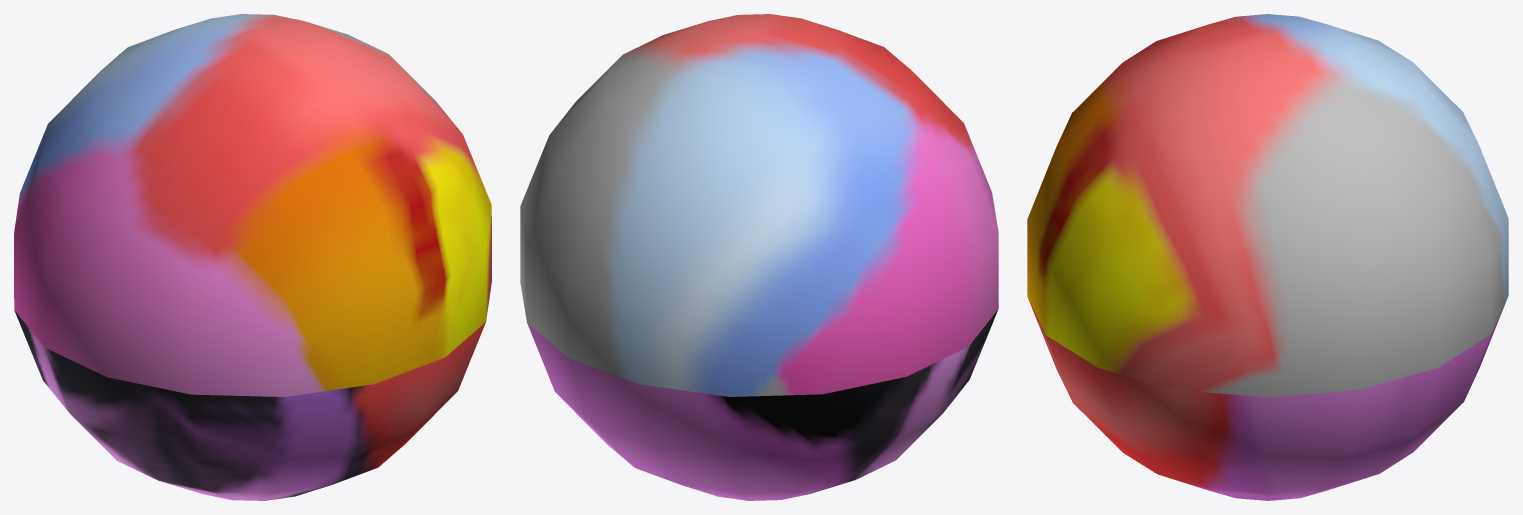
File: dif1.2.fbx
3 renders of one model, left to right at view 1: azimuth 30°, elevation 25°; view 2: azimuth 150°, elevation 25°; view 3: azimuth 270°, elevation 25°, orthographic.
Visible parts, largest first — view 1: Sphere.004; view 2: Sphere.004; view 3: Sphere.004.
Boxes of the visible parts, <box> form: Sphere.004: <box>14,14,491,500</box>; Sphere.004: <box>520,14,998,500</box>; Sphere.004: <box>1027,14,1508,500</box>.
Size of the model in its own units: 140 by 142 by 140.
